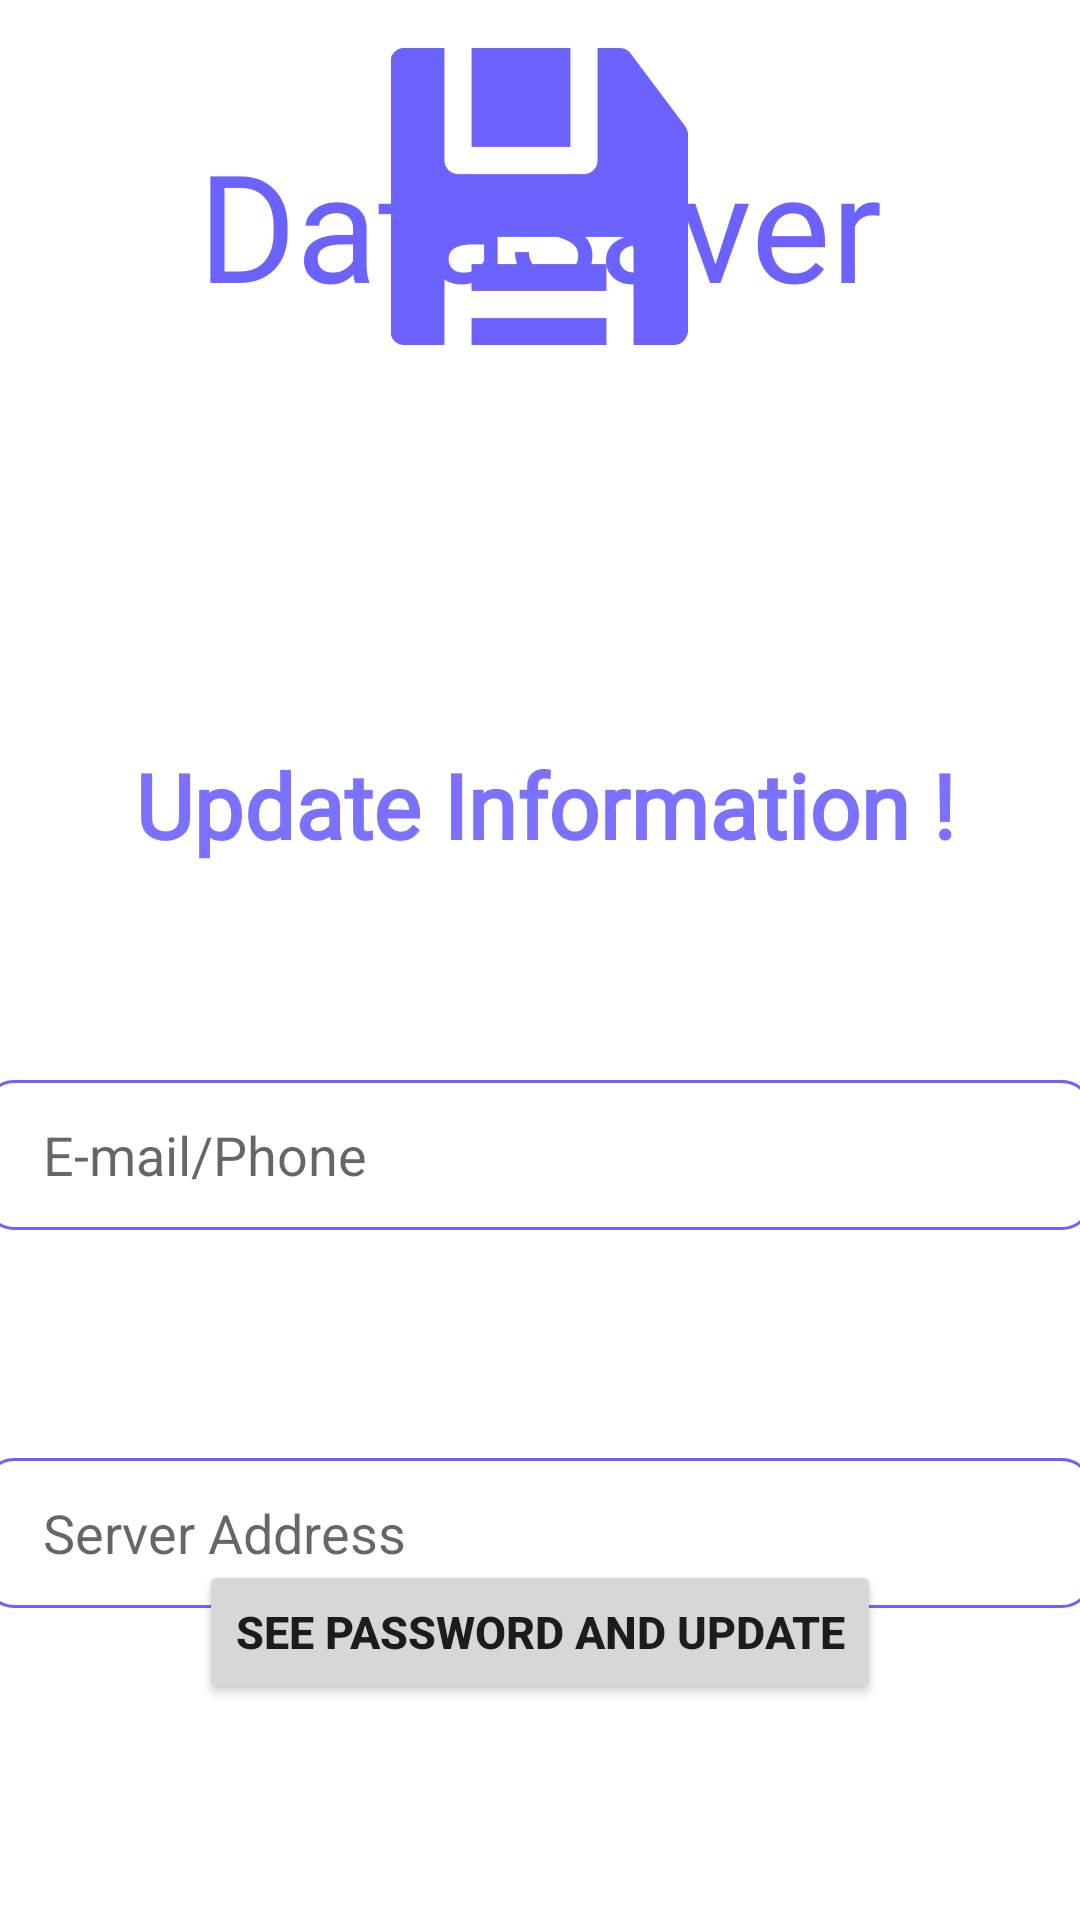

Icons on this 1080w x 1920h Android screen, each with its box as (x1, y1, x2, y2):
file: (368, 48, 710, 345)
